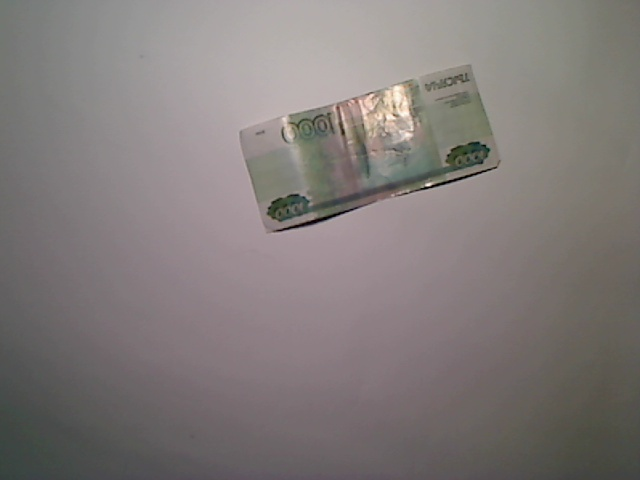banknotes: (234, 58, 505, 240)
